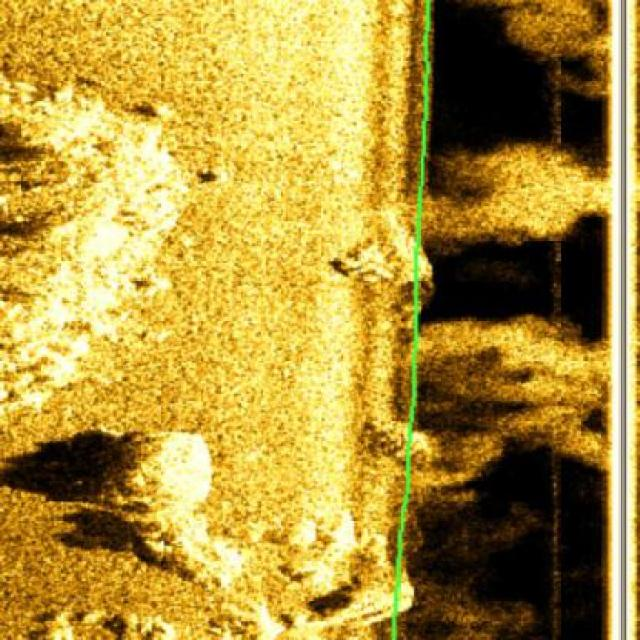bedrock group: (18, 433, 404, 639), (2, 78, 195, 414)
